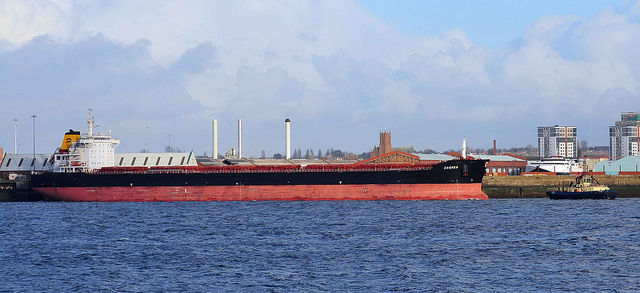tanker: (19, 113, 493, 199)
tug_boat: (542, 156, 613, 201)
